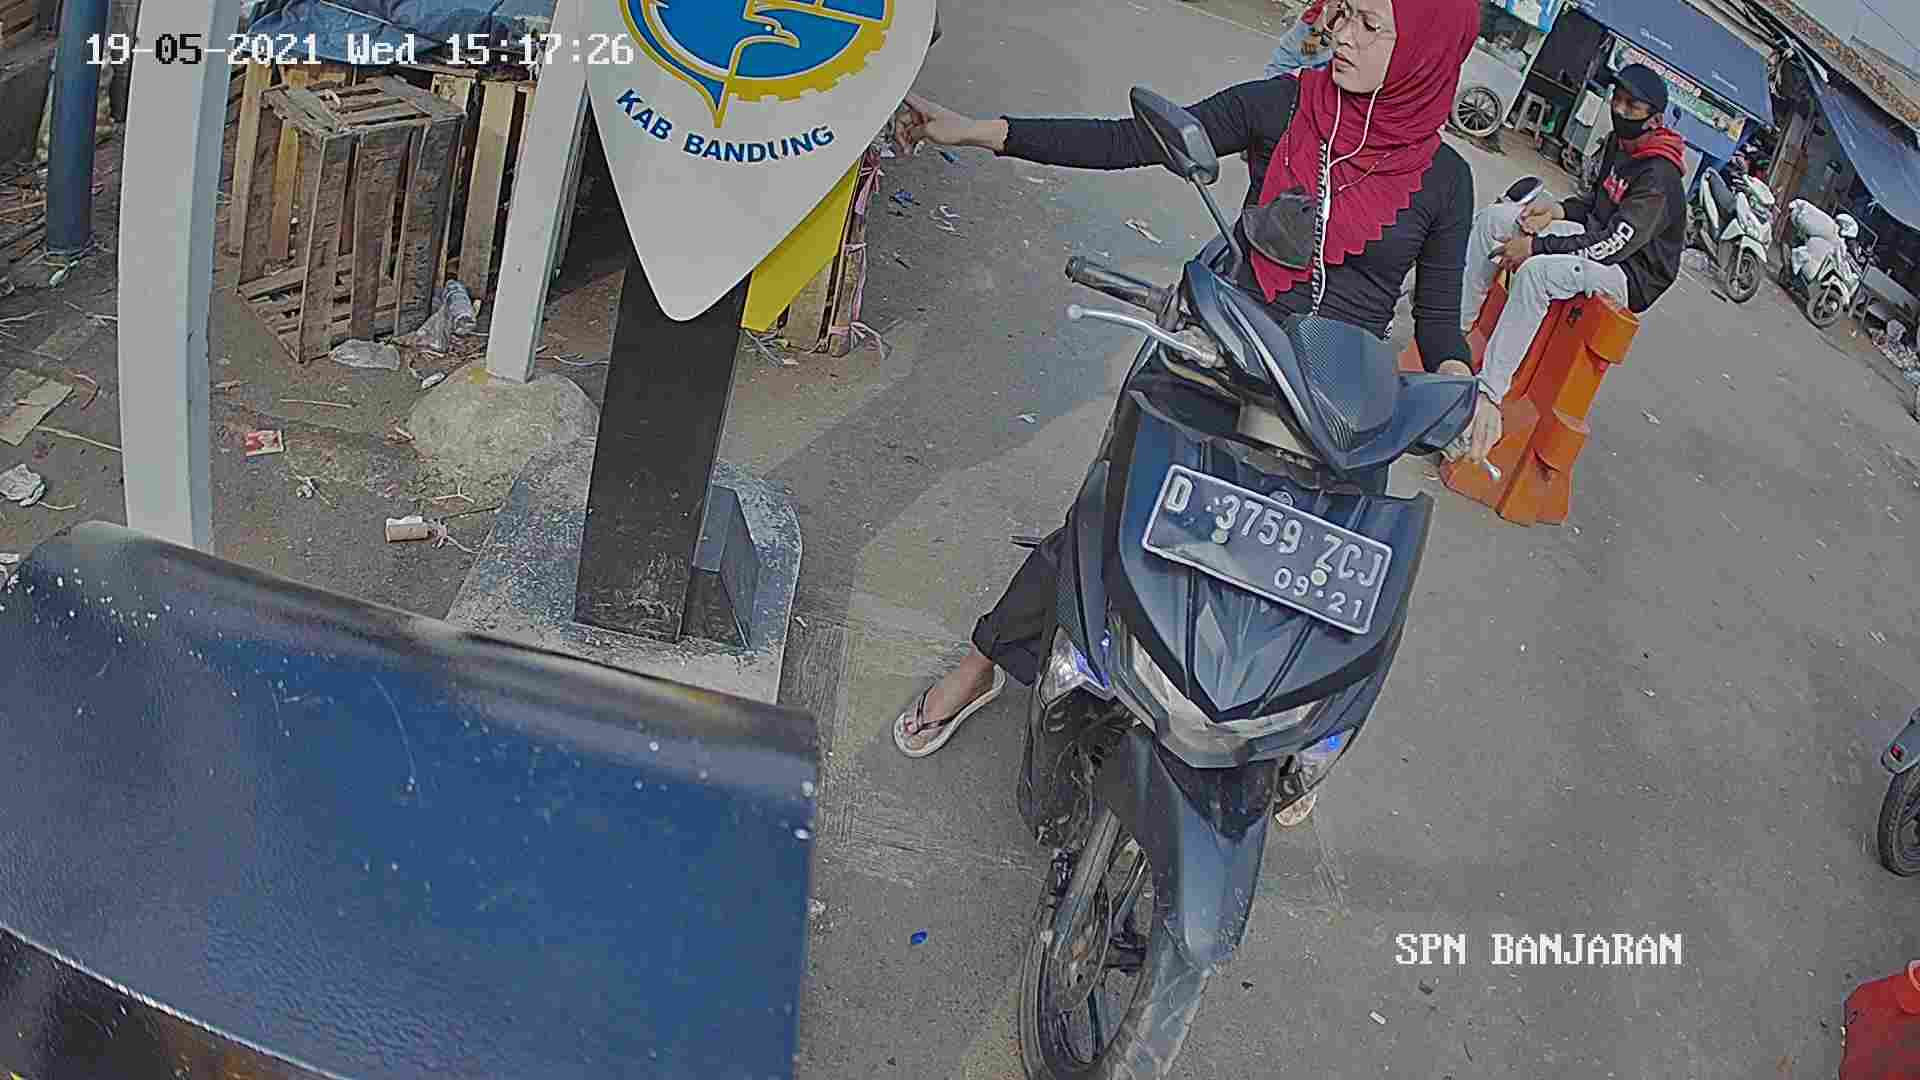motor: (1007, 224, 1400, 1080)
